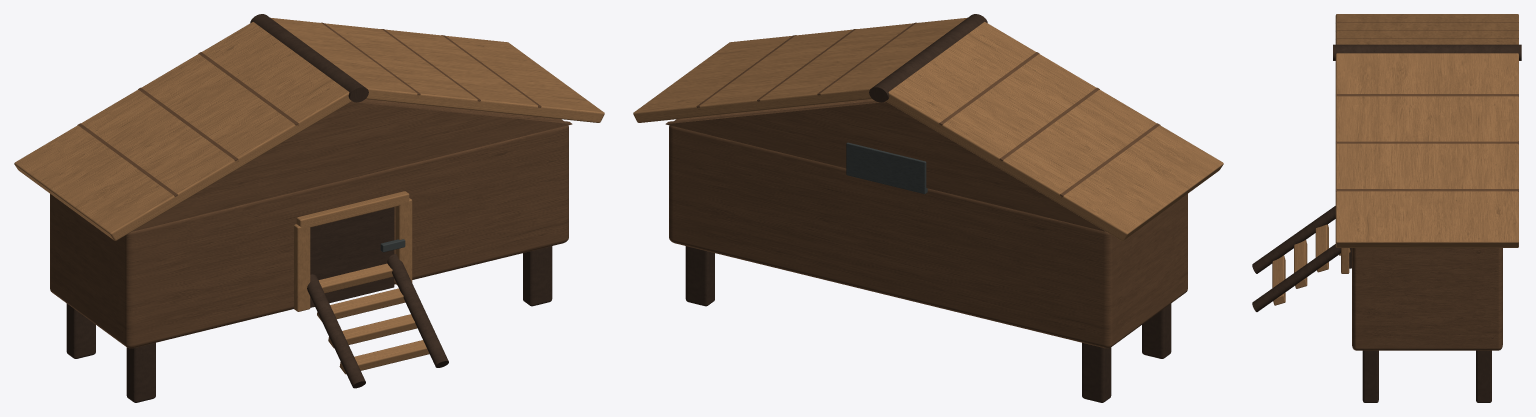
The model's file is chicken_coop.glb.
The picture shows the model from 3 angles, left to right: view 1: azimuth 30°, elevation 25°; view 2: azimuth 150°, elevation 25°; view 3: azimuth 270°, elevation 25°; orthographic projection. The views are drawn at different scales.
Visible parts, largest first — view 1: chicken_coop; view 2: chicken_coop; view 3: chicken_coop.
Boxes of the visible parts, <box> form: chicken_coop: <box>14,14,604,402</box>; chicken_coop: <box>633,14,1223,402</box>; chicken_coop: <box>1252,14,1521,402</box>.
Bounding box in the file's own units: 2.8 × 1.5 × 1.4.
1 material, 1 textured.
